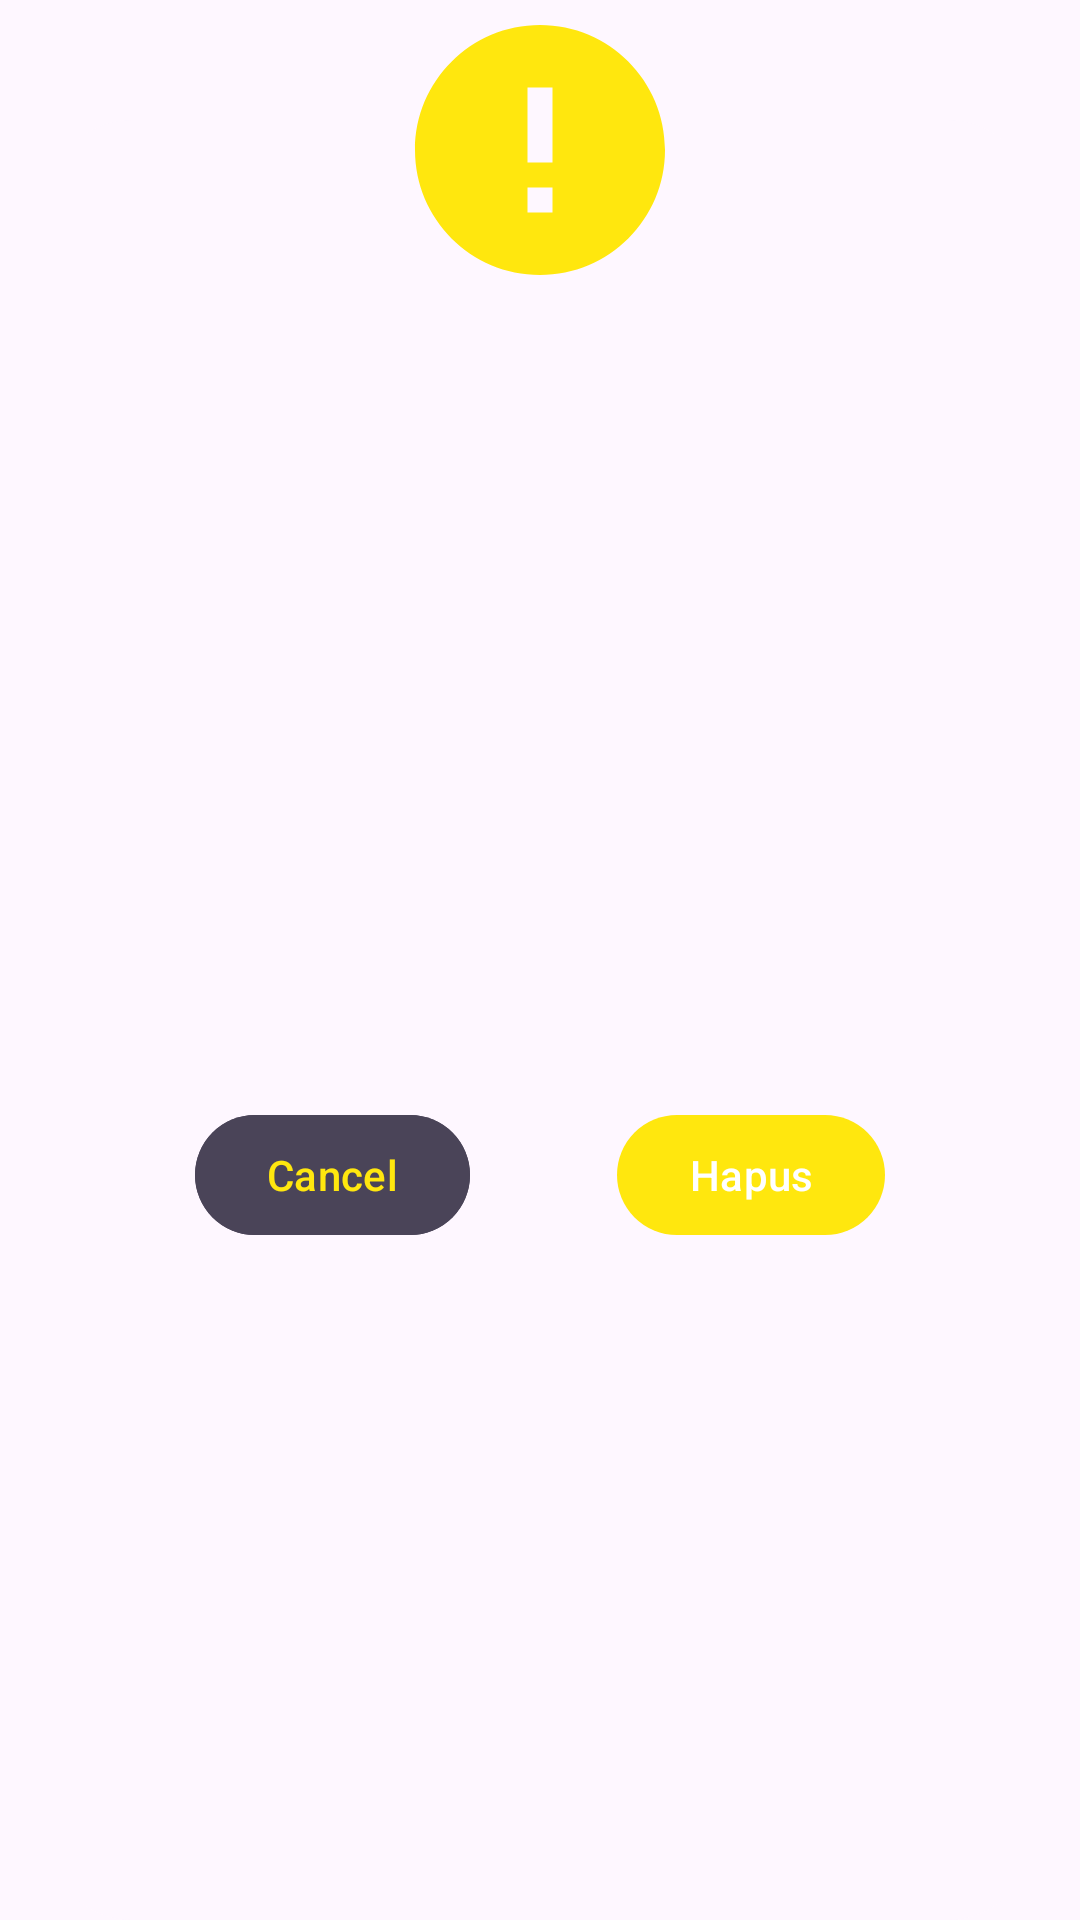

Where icons sit on this 1080w x 1920h app screen, as (x1, y1, x2, y2):
error: (415, 25, 665, 275)
